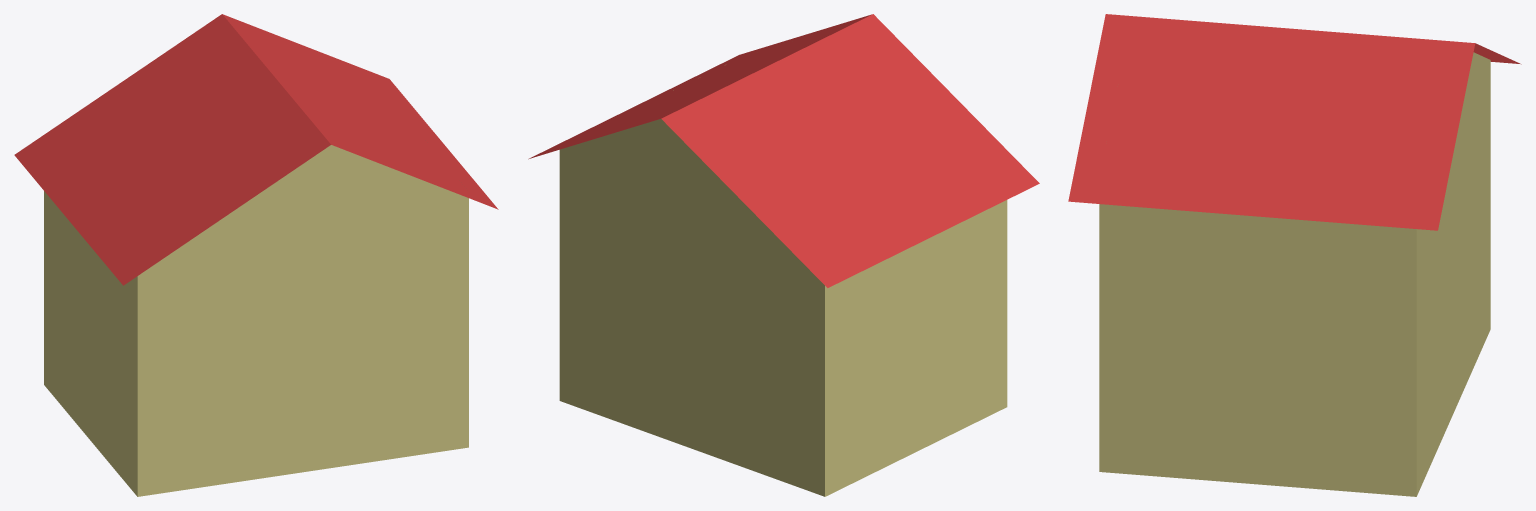
3 views of the same model, side by side, from view 1: azimuth 30°, elevation 25°; view 2: azimuth 150°, elevation 25°; view 3: azimuth 270°, elevation 25° (orthographic). The views are drawn at different scales.
Bounding box in the file's own units: 9.7 × 8.5 × 7.91.
